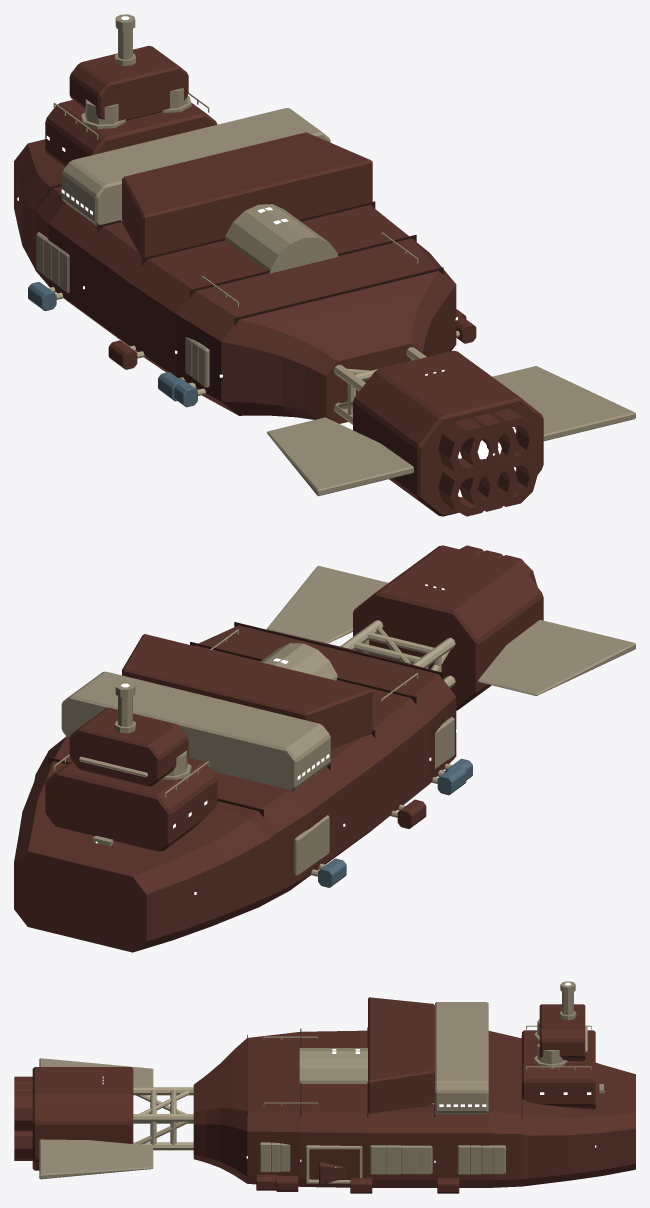
3 views of the same model, one above another, from view 1: azimuth 30°, elevation 25°; view 2: azimuth 150°, elevation 25°; view 3: azimuth 270°, elevation 25° (orthographic). The views are drawn at different scales.
Visible parts, largest first — view 1: RIMWARD_HULL; view 2: RIMWARD_HULL; view 3: RIMWARD_HULL.
Boxes of the visible parts, <box> form: RIMWARD_HULL: <box>14,14,635,516</box>; RIMWARD_HULL: <box>14,545,635,952</box>; RIMWARD_HULL: <box>14,981,635,1193</box>.
Bounding box in the file's own units: 13.21 × 9.48 × 29.7.
